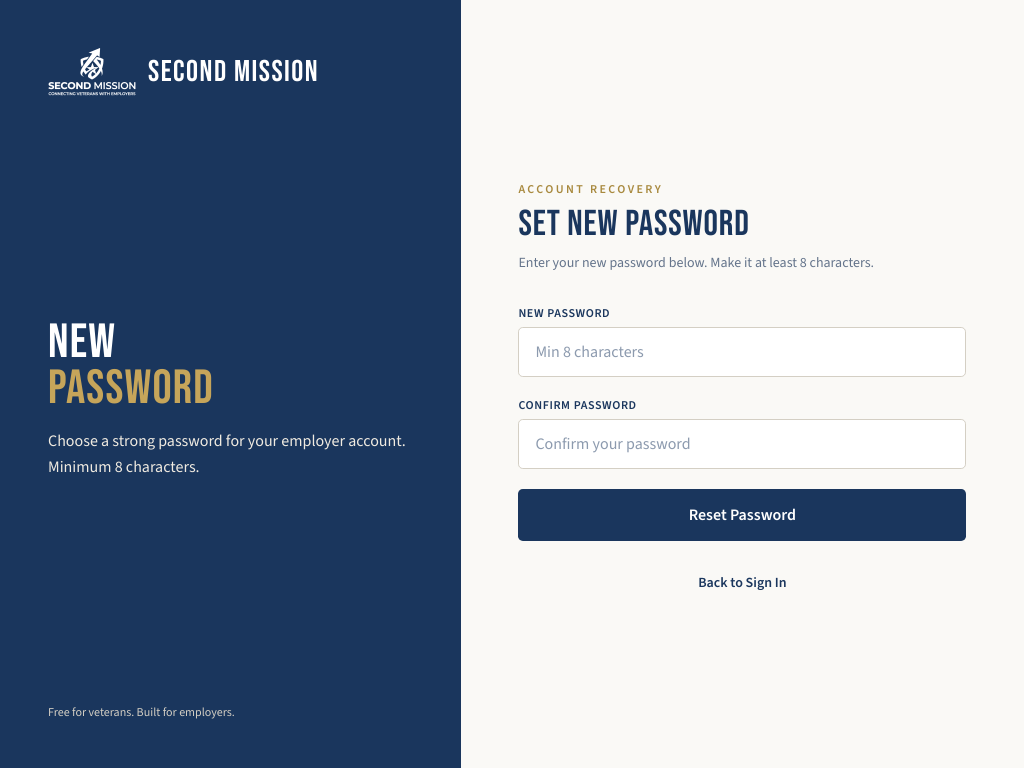
EmployerResetPasswordPage › submits new password and shows success
In the password field with placeholder "Min 8 characters": (742, 352) [518, 326, 966, 376], type "newpassword123"
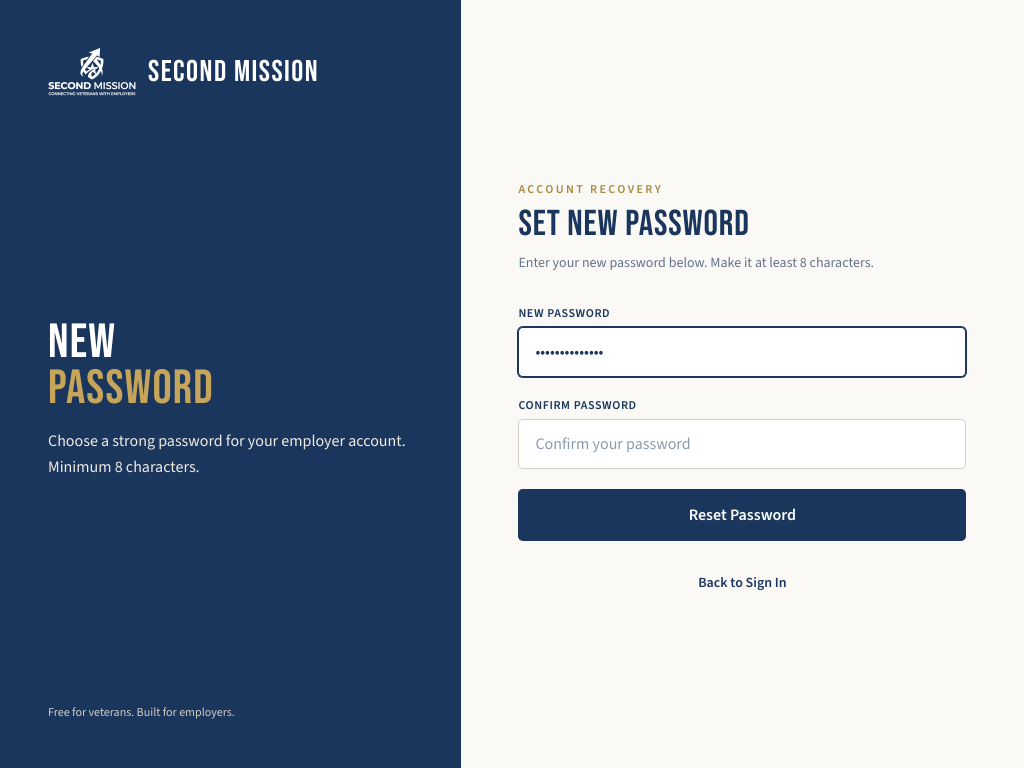
In the password field with placeholder "Confirm your password": (742, 444) [518, 418, 966, 468], type "newpassword123"
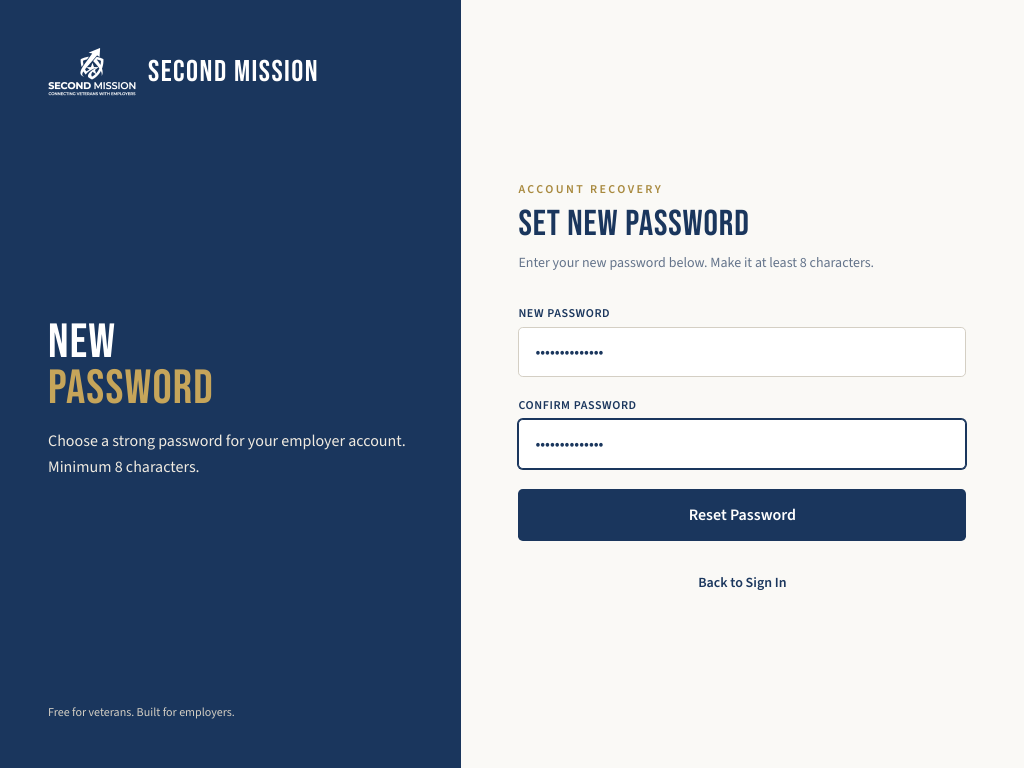
Click the button "Reset Password": (742, 514) [518, 488, 966, 540]
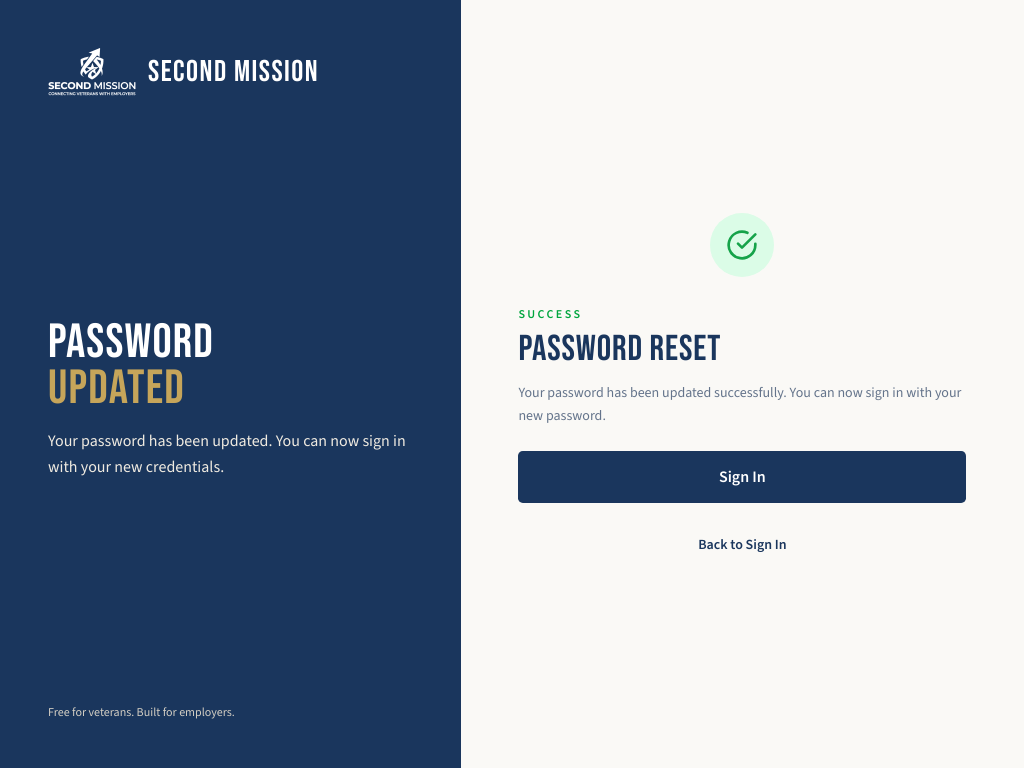
Result: the heading "PASSWORD RESET" is shown at [518, 328, 721, 371]
